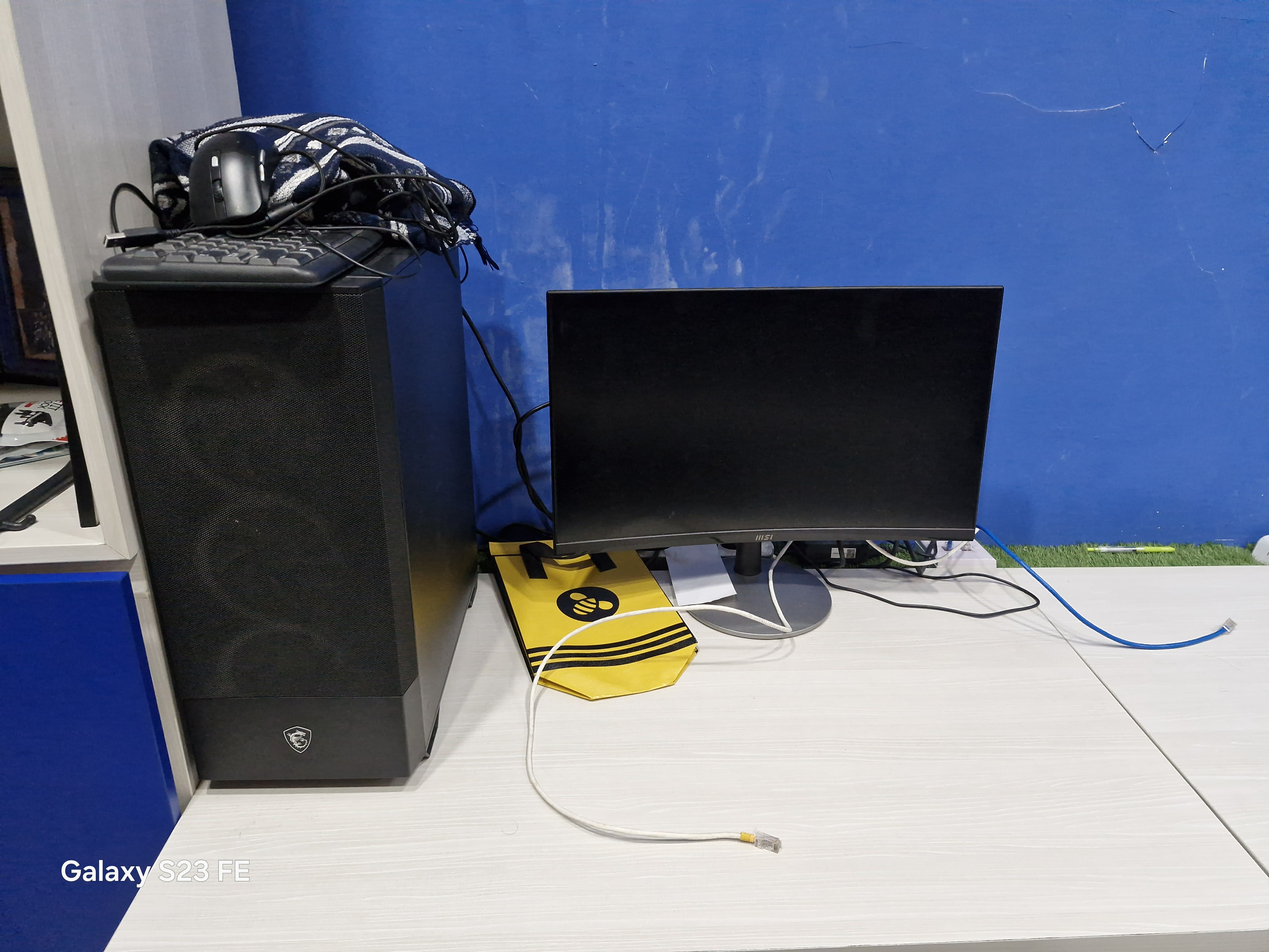keyboard: (96, 228, 385, 286)
mouse: (190, 132, 268, 226)
shelf: (0, 0, 235, 566)
table-merged: (121, 533, 1268, 951)
tv: (547, 287, 1001, 638)
wall-other-merged: (235, 0, 1268, 547)
